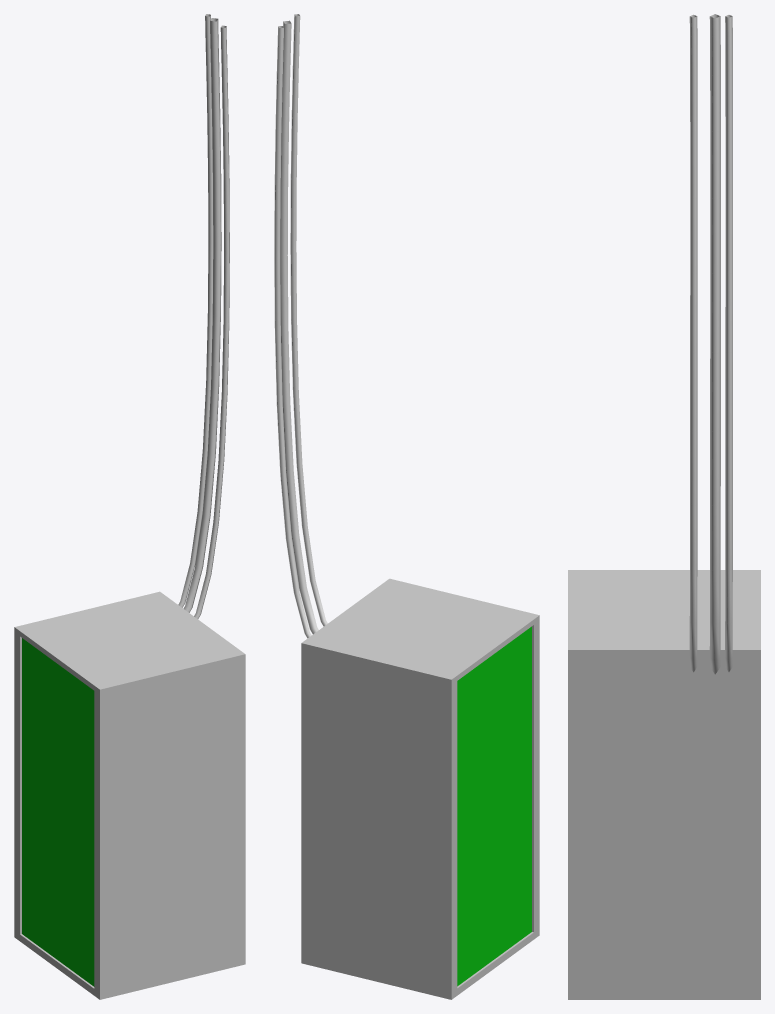
The model's file is server.fbx.
3 views of the same model, side by side, from view 1: azimuth 30°, elevation 25°; view 2: azimuth 150°, elevation 25°; view 3: azimuth 270°, elevation 25° (orthographic). The views are drawn at different scales.
Visible parts, largest first — view 1: MainServer, Door, BezierCurve, BezierCurve.001, BezierCurve.002; view 2: MainServer, Door, BezierCurve, BezierCurve.002, BezierCurve.001; view 3: MainServer, BezierCurve, BezierCurve.001, BezierCurve.002.
Boxes of the visible parts, x1,y1,x2,y2 form: MainServer: (14, 591, 245, 999); Door: (22, 638, 94, 986); BezierCurve: (183, 18, 221, 612); BezierCurve.001: (194, 25, 229, 618); BezierCurve.002: (178, 14, 213, 607); MainServer: (301, 578, 539, 999); Door: (457, 626, 531, 986); BezierCurve: (280, 20, 318, 634); BezierCurve.002: (274, 26, 311, 638); BezierCurve.001: (290, 14, 327, 626); MainServer: (568, 570, 760, 999); BezierCurve: (709, 14, 720, 674); BezierCurve.001: (689, 14, 697, 672); BezierCurve.002: (725, 15, 732, 671).
Size of the model in its own units: 505 by 2296 by 400.
